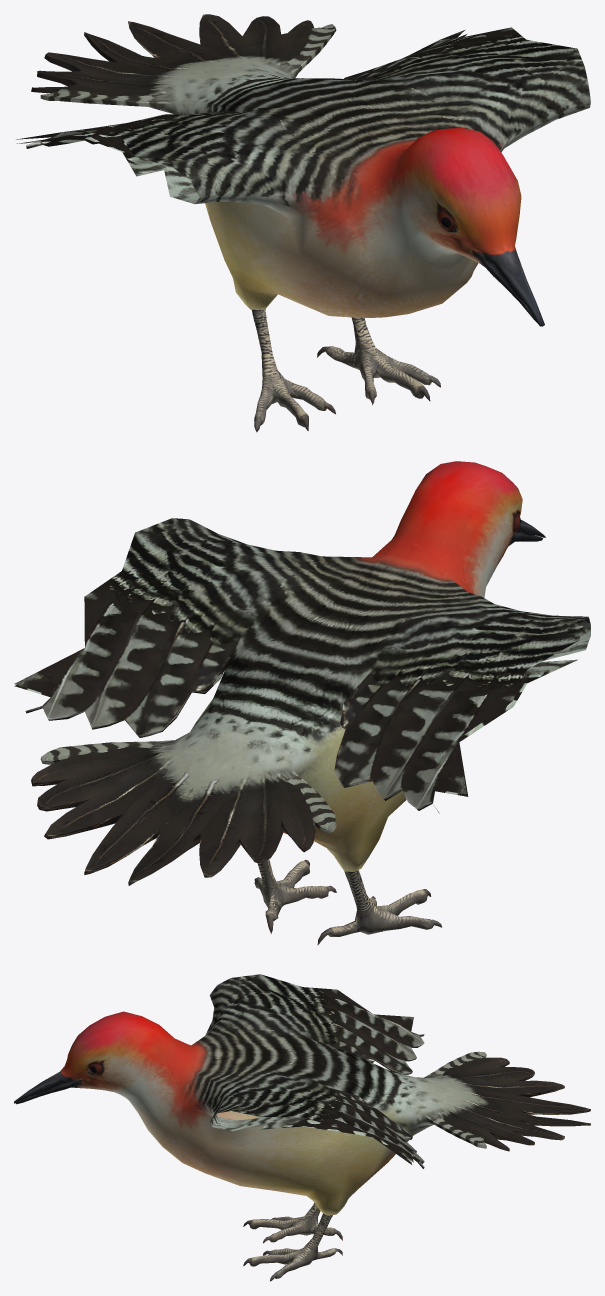
Rendered from Woodpecker_body.gltf.
3 renders of one model, top to bottom at view 1: azimuth 30°, elevation 25°; view 2: azimuth 150°, elevation 25°; view 3: azimuth 270°, elevation 25°, orthographic. The views are drawn at different scales.
Parts seen in each view (by area): view 1: Woodpecker_body; view 2: Woodpecker_body; view 3: Woodpecker_body.
Boxes of the visible parts, <box> form: Woodpecker_body: <box>16,14,590,432</box>; Woodpecker_body: <box>14,461,590,945</box>; Woodpecker_body: <box>14,974,590,1281</box>.
Bounding box in the file's own units: 0.1216 × 0.0912 × 0.203.
1 material, 1 textured.
